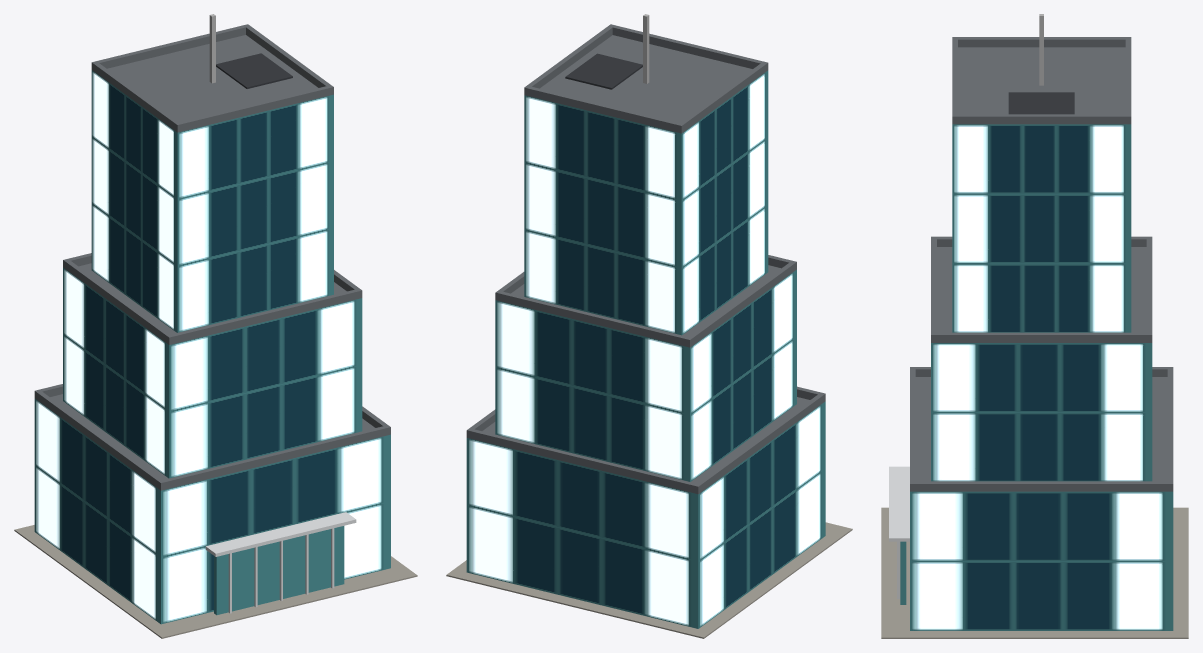
The model's file is o-atlas.glb.
3 renders of one model, left to right at view 1: azimuth 30°, elevation 25°; view 2: azimuth 150°, elevation 25°; view 3: azimuth 270°, elevation 25°, orthographic. The views are drawn at different scales.
Parts seen in each view (by area): view 1: atlas; view 2: atlas; view 3: atlas.
Boxes of the visible parts, x1=… form: atlas: x1=14, y1=14, x2=417, y2=638; atlas: x1=446, y1=14, x2=852, y2=638; atlas: x1=881, y1=14, x2=1188, y2=638.
Bounding box in the file's own units: 16 × 32.08 × 16.
Materials: 1 (1 with a texture image).
